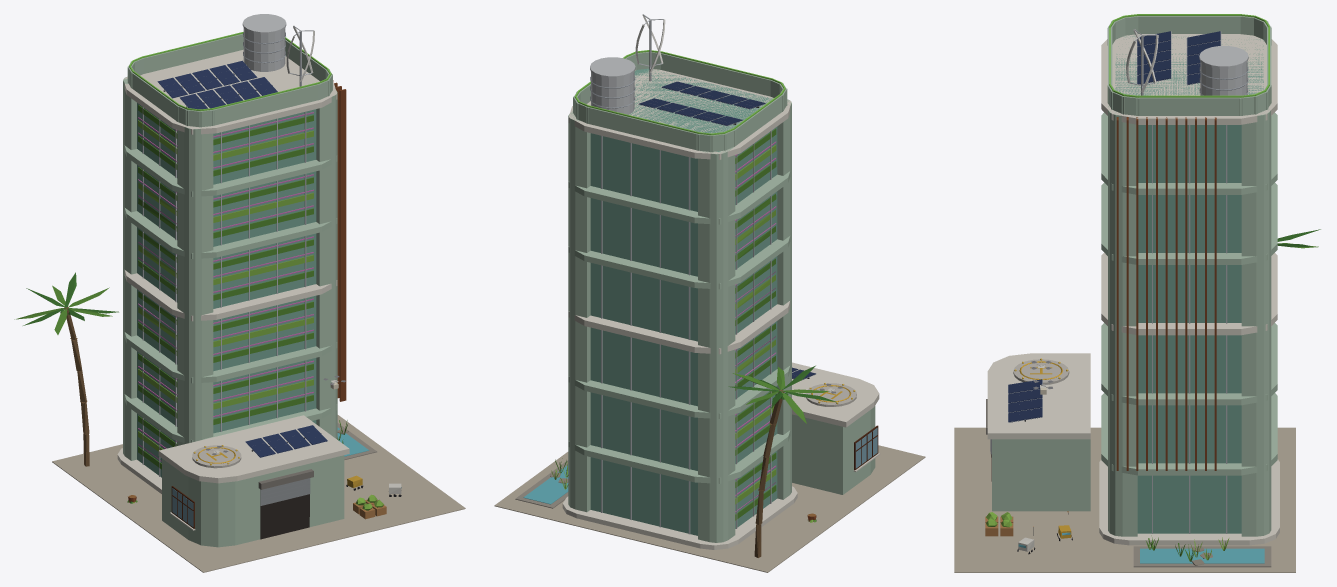
File: factory_2.glb
The picture shows the model from 3 angles, left to right: view 1: azimuth 30°, elevation 25°; view 2: azimuth 150°, elevation 25°; view 3: azimuth 270°, elevation 25°; orthographic projection. The views are drawn at different scales.
Visible parts, largest first — view 1: body, windows; view 2: body, windows; view 3: body, windows.
Part boxes in pixels (x1,y1,x2,y2): body: [14, 14, 465, 572]; windows: [129, 32, 401, 539]; body: [494, 14, 925, 572]; windows: [574, 50, 855, 404]; body: [954, 16, 1320, 572]; windows: [991, 14, 1269, 547].
Bounding box in the file's own units: 18.86 × 25.65 × 17.15.
